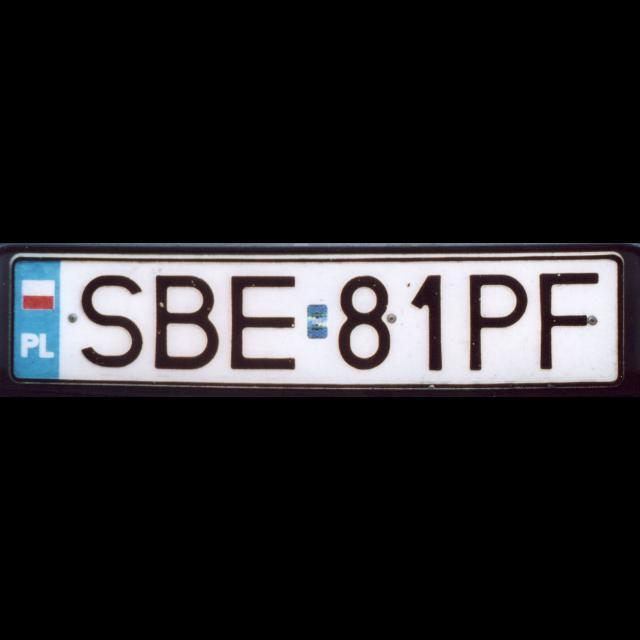license-plates: (12, 255, 622, 389)
